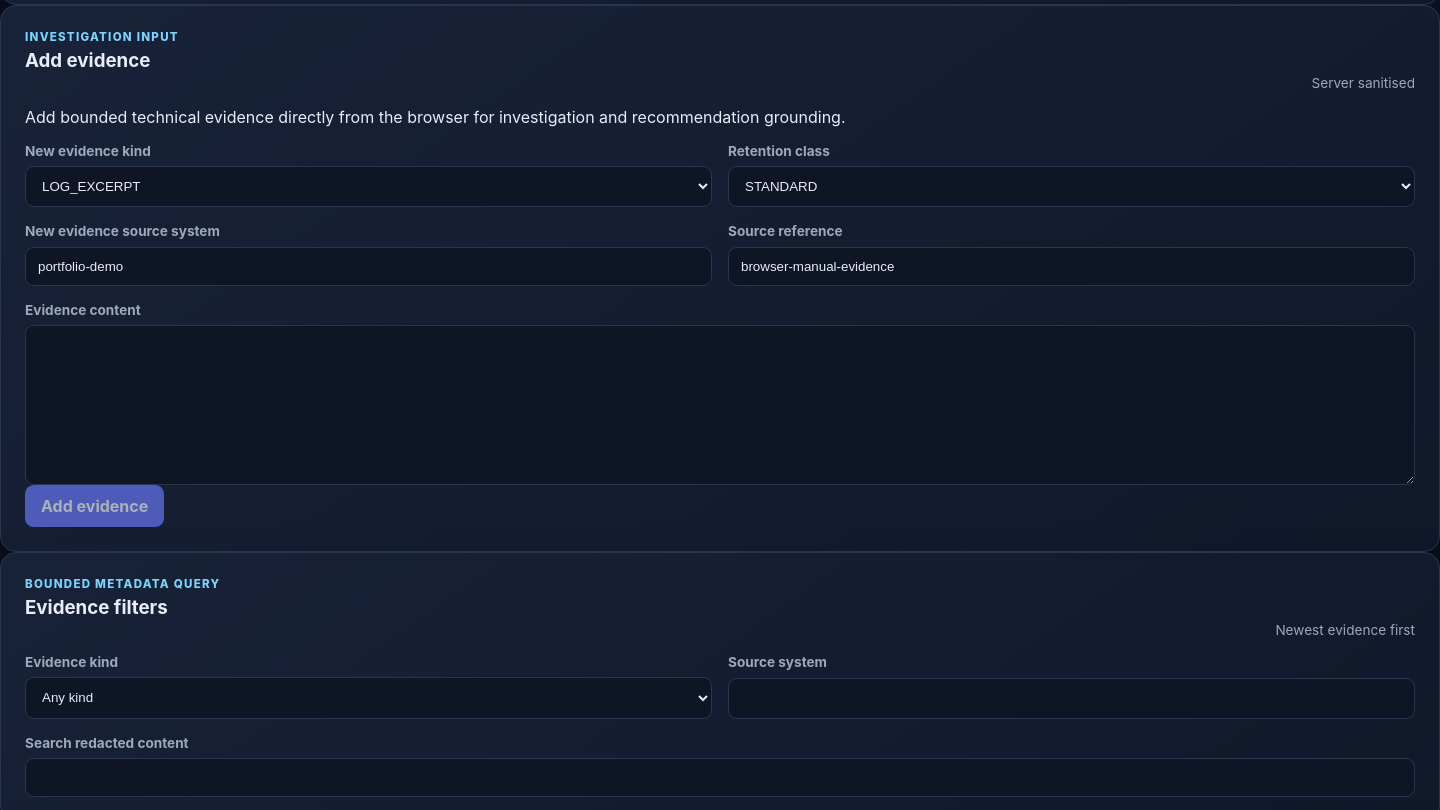
Test: browser evidence creation › shows a bounded creation failure
(page scrolled)
Type "dependency timeout" into the text box labelled "Evidence content".
click(720, 405); type("dependency timeout")  # box [25,325,1415,485]
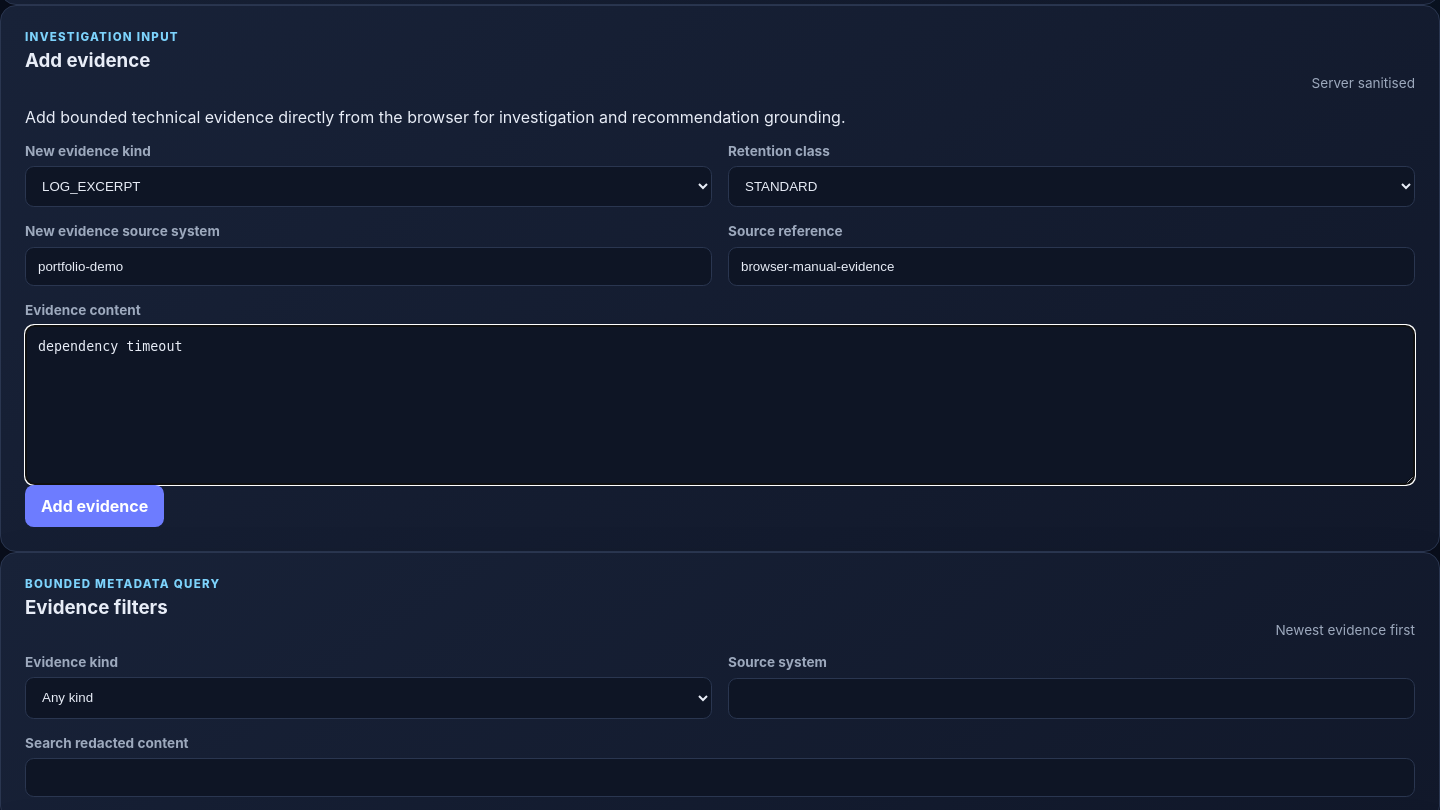
Click the button "Add evidence".
click(95, 506)  # box [25,485,164,527]
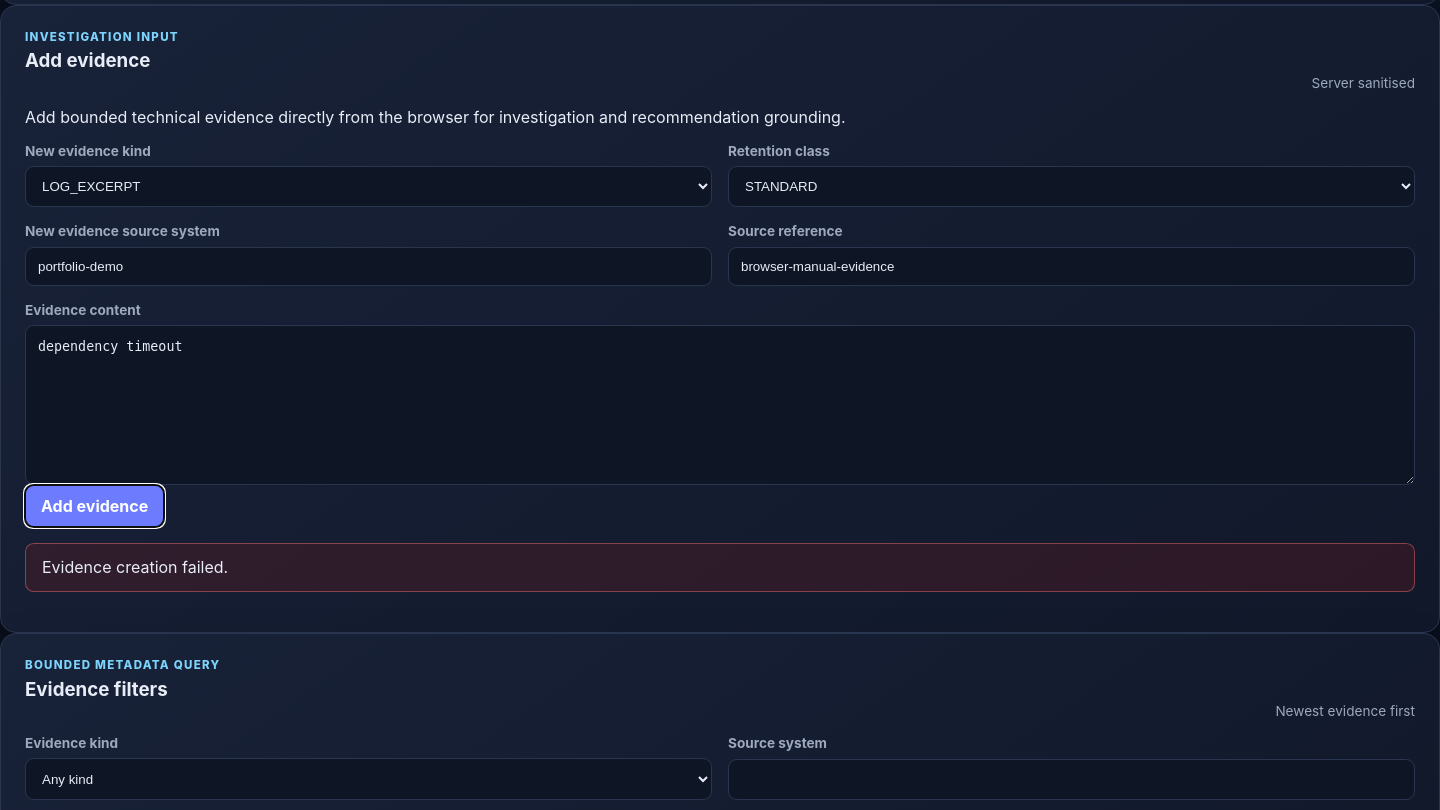
expect the message reads "Evidence creation failed.": met, box [42,557,228,577]
